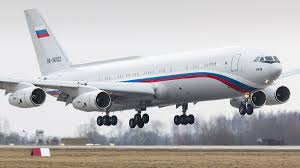maybay_dansu: (5, 15, 298, 127)
